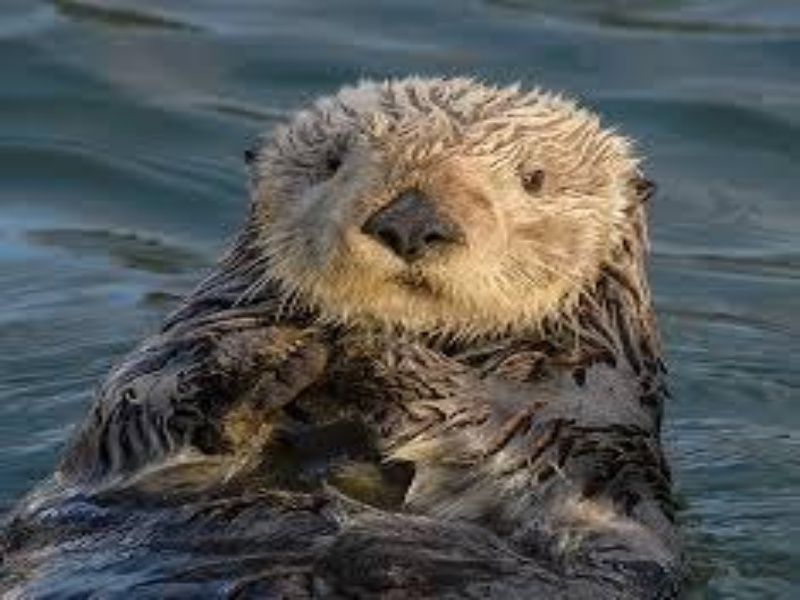minkish: (6, 66, 676, 594)
